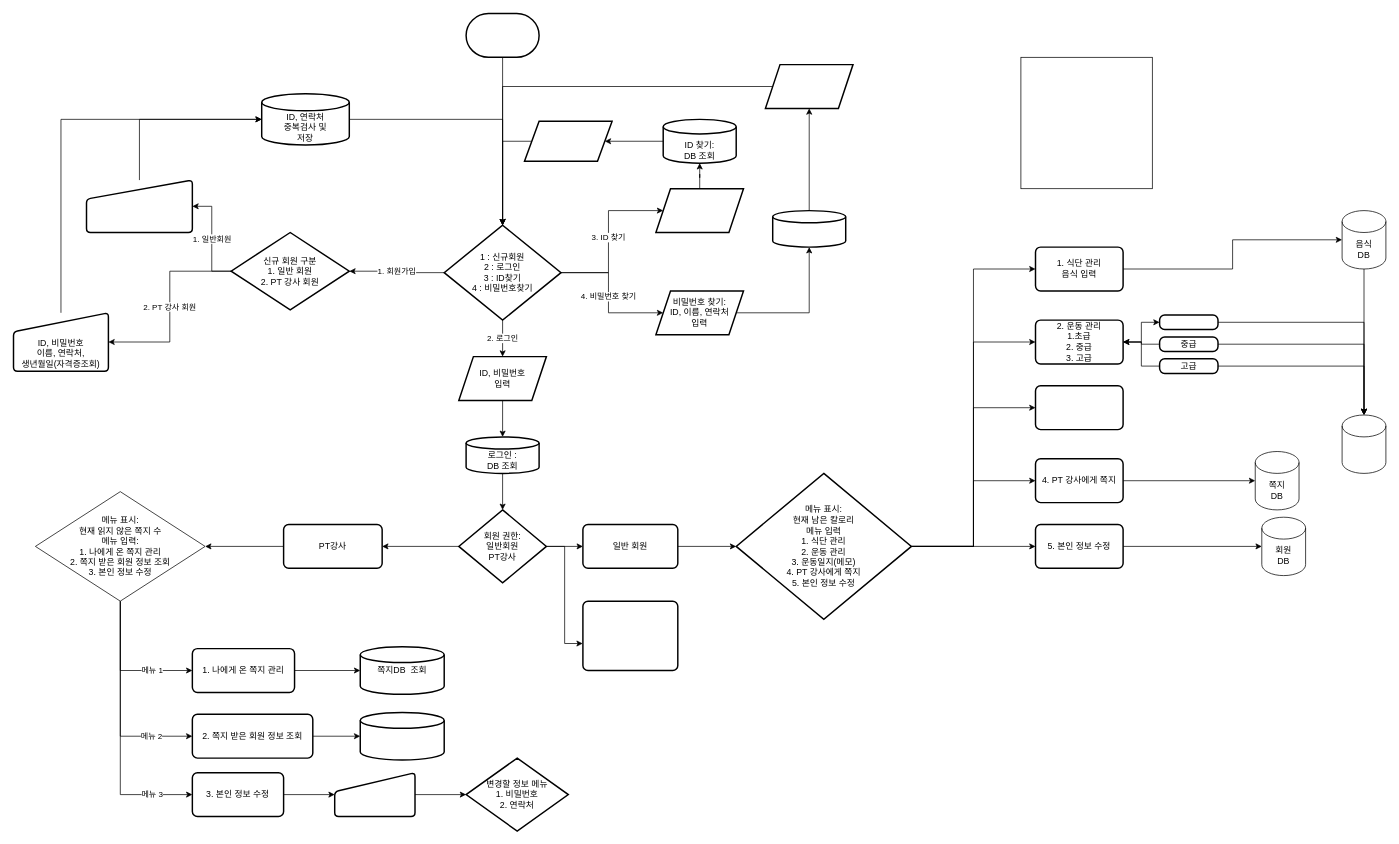
Some shapes in this 1399 by 844 pixel diagram are drawn without their labels. The centre of each missing label's shape, as x and y in pixels:
1. 회원 : 계정 (임형경) 2. 회원 : 칼로리,운동 (이재명) 3. 게시판 메모,쪽지 (윤성연) 4. 관리자 기능 (김희진): the point at 1086,123
3. 운동 일지: the point at 1078,407
ID 찾기: 이름, 연락처 입력: the point at 699,210
ID 출력: the point at 567,141
ID, 비밀번호 이름, 연락처, 성별, 나이, 몸무게, 키, 운동습관(1~3): the point at 139,206
관리자 1. 음식DB 2. 운동DB 3. 회원DB: the point at 630,635
본인확인용 비밀번호 재입력: the point at 374,794
비밀번호 찾기: DB 조회: the point at 809,228
비밀번호 출력: the point at 808,86
앱 실행: the point at 502,35
초급: the point at 1188,322
칼로리 DB: the point at 1363,443
회원DB 조회: the point at 402,735
